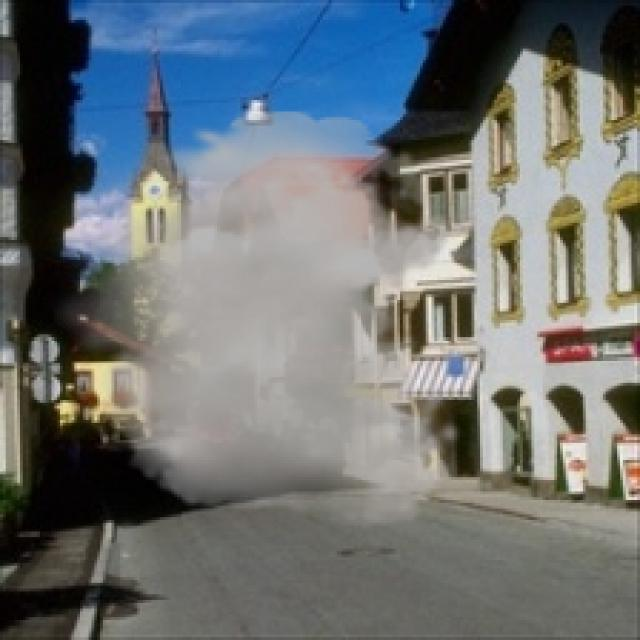smoke: (46, 111, 463, 528)
